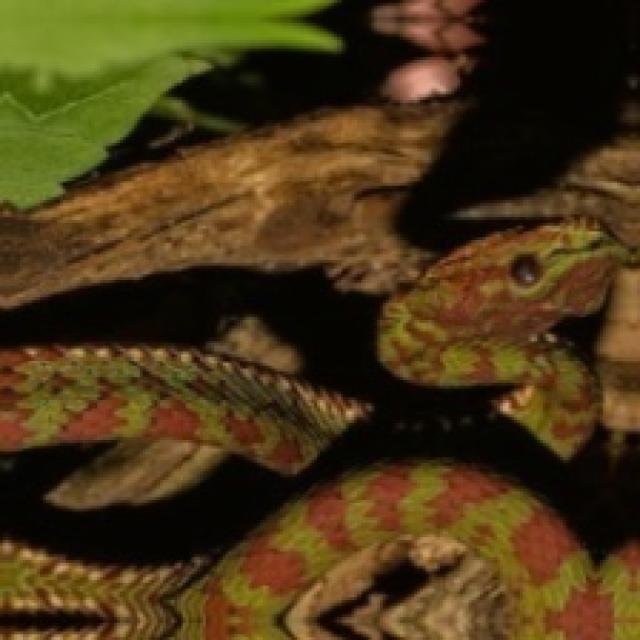philippine pitviper: (0, 460, 640, 640), (377, 223, 620, 454), (0, 346, 360, 471)
